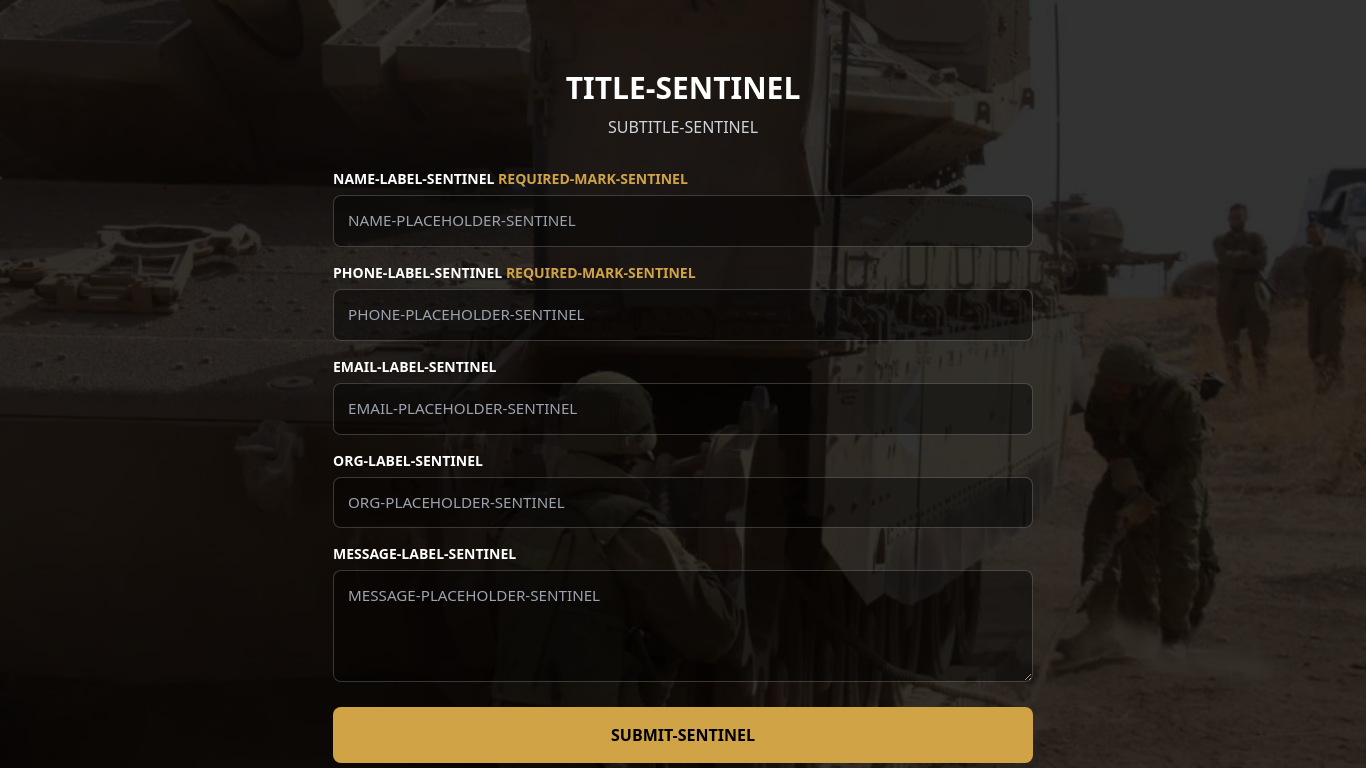
Test: 4. res.ok true: the success message is shown exactly once, and the request is well formed
Type "Dana Cohen" into the field labelled "NAME-LABEL-SENTINEL".
click(683, 221); type("Dana Cohen")  # box [333,195,1033,247]
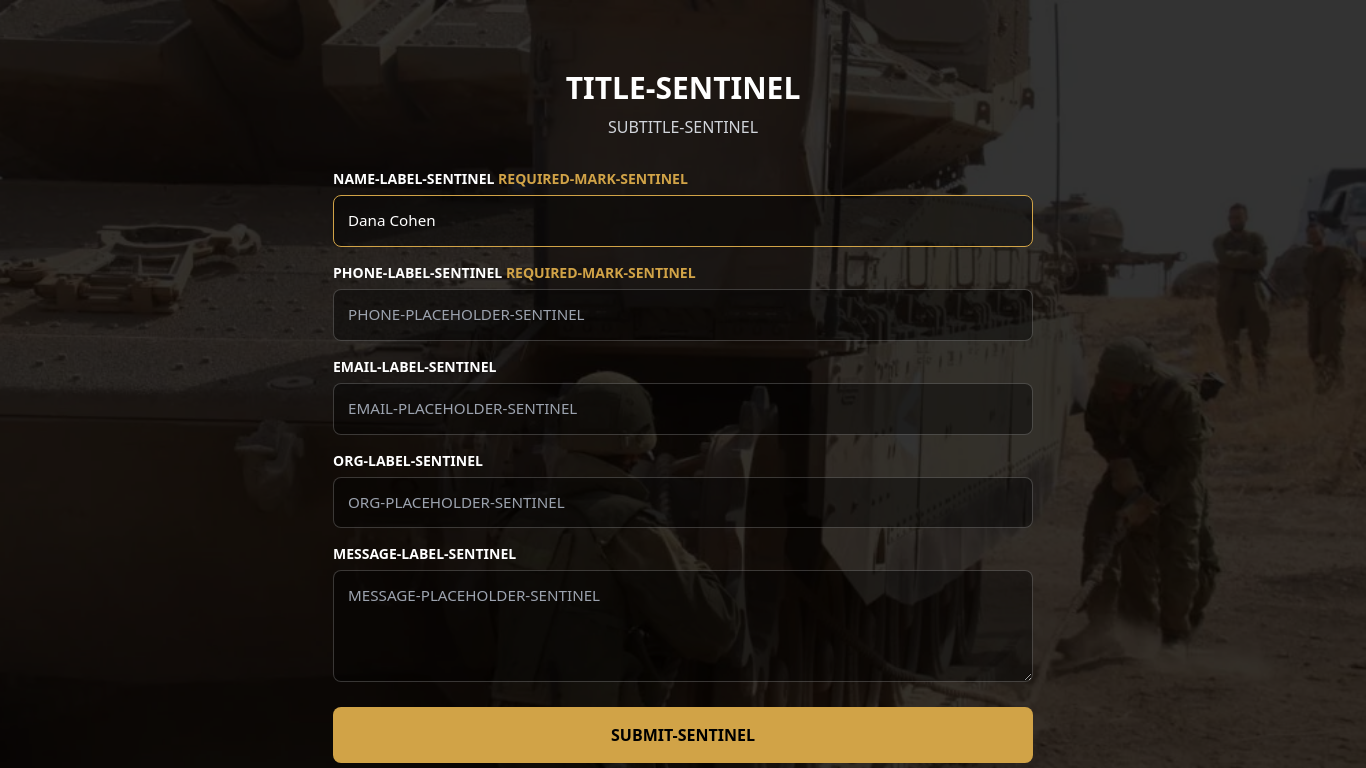
Type "050-000-0000" into the field labelled "PHONE-LABEL-SENTINEL".
click(683, 315); type("050-000-0000")  # box [333,289,1033,341]
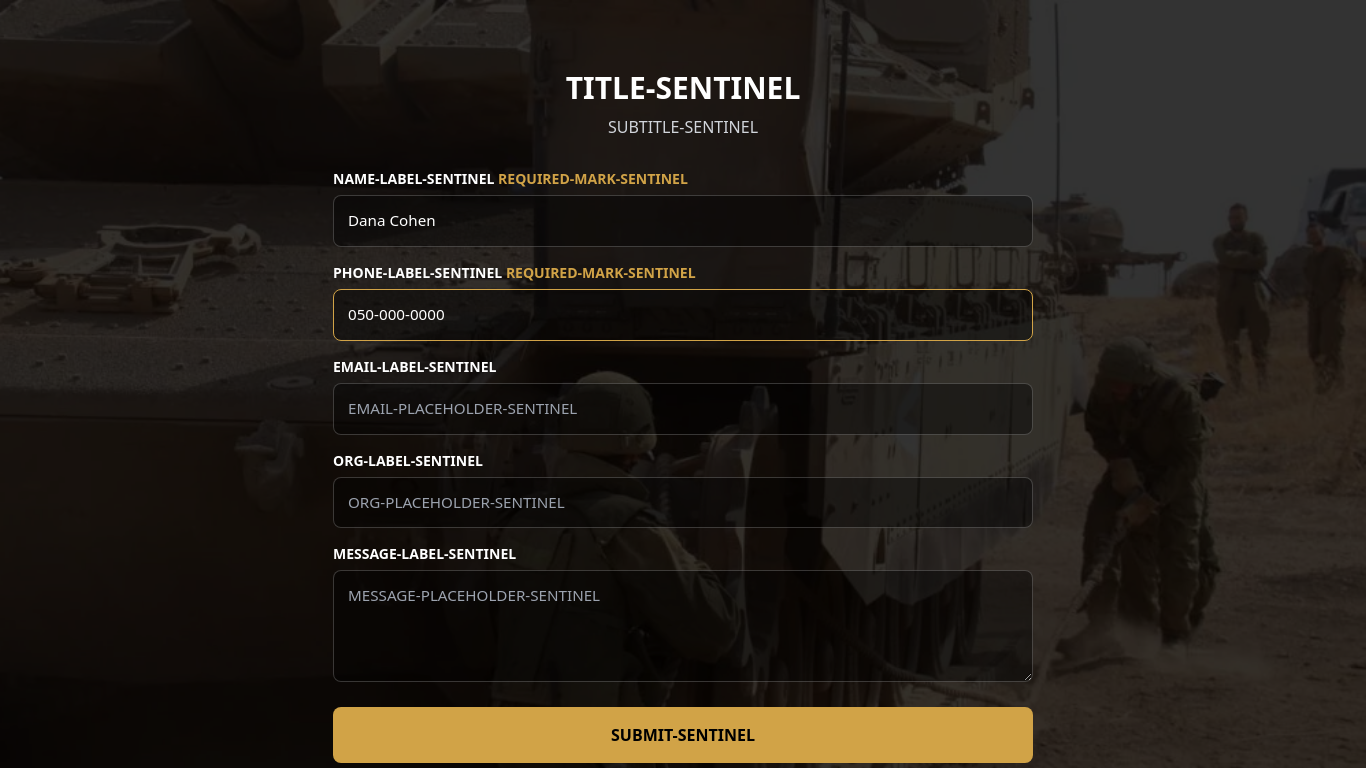
Type "dana@example.org" into the field labelled "EMAIL-LABEL-SENTINEL".
click(683, 409); type("dana@example.org")  # box [333,383,1033,435]
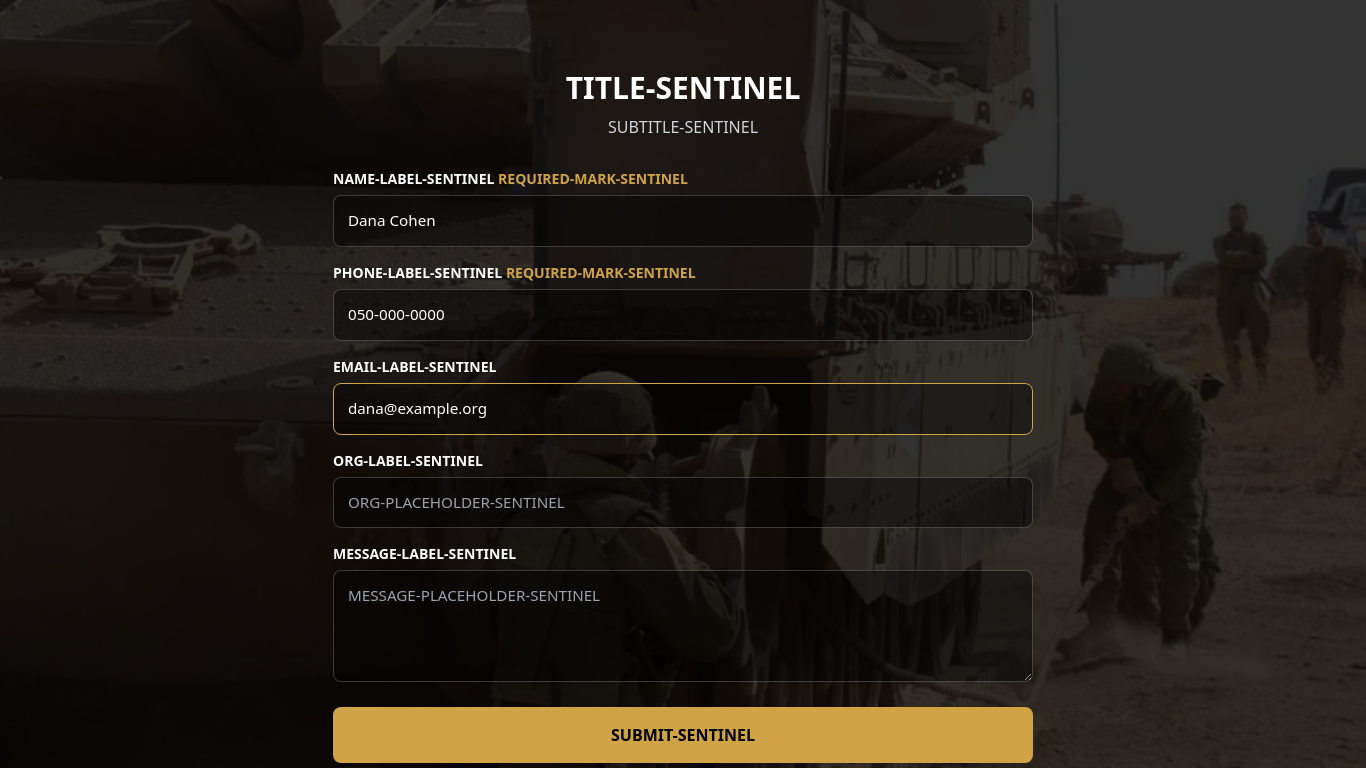
Type "Example School" into the field labelled "ORG-LABEL-SENTINEL".
click(683, 502); type("Example School")  # box [333,477,1033,528]
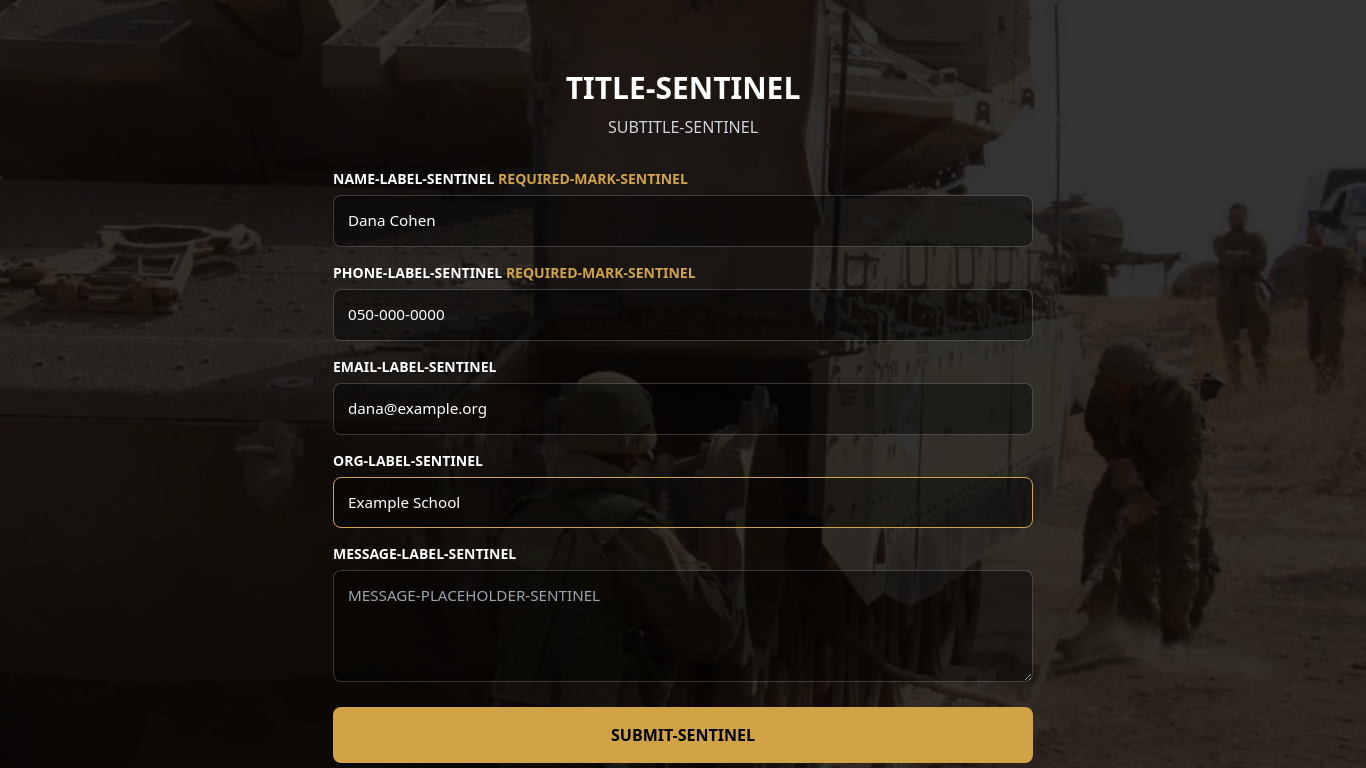
Type "Memorial day assembly" into the text box labelled "MESSAGE-LABEL-SENTINEL".
click(683, 626); type("Memorial day assembly")  # box [333,570,1033,682]
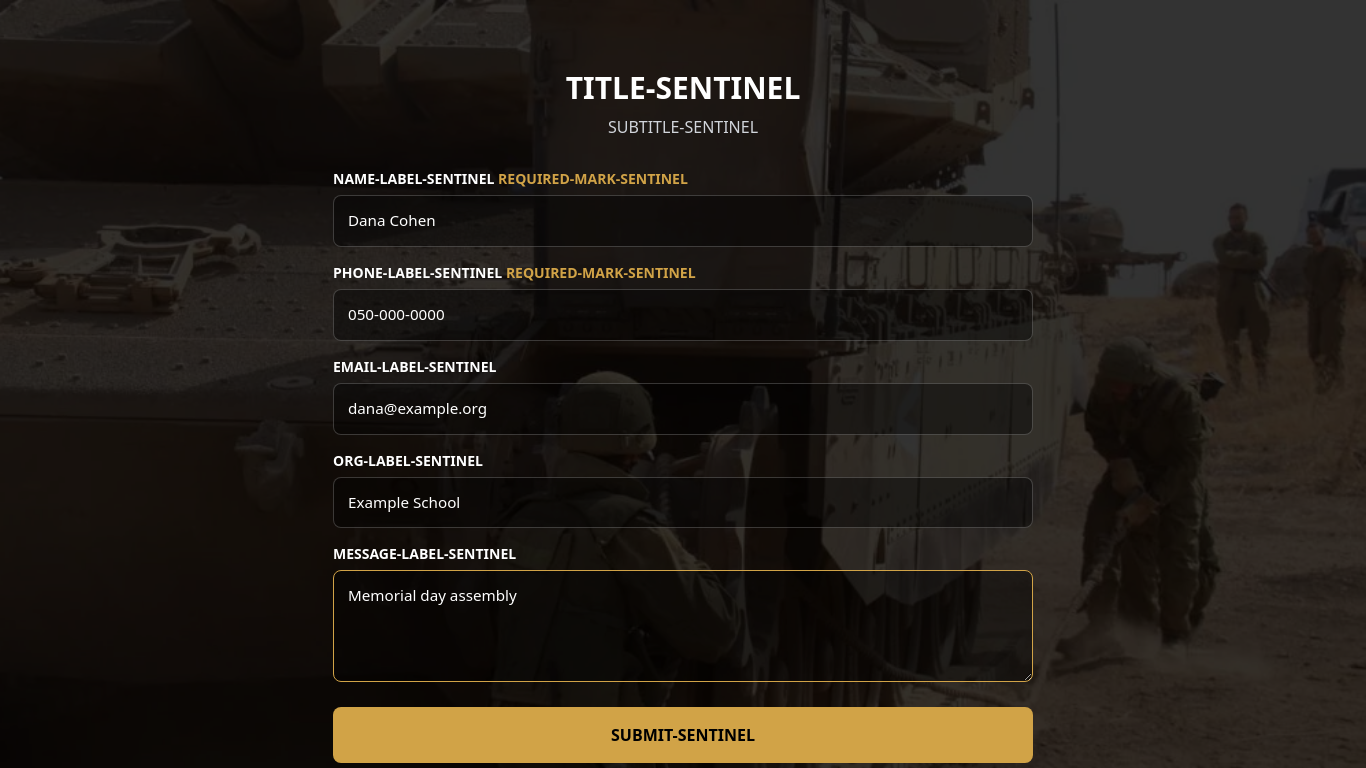
Click the button "SUBMIT-SENTINEL".
click(683, 735)  # box [333,707,1033,763]
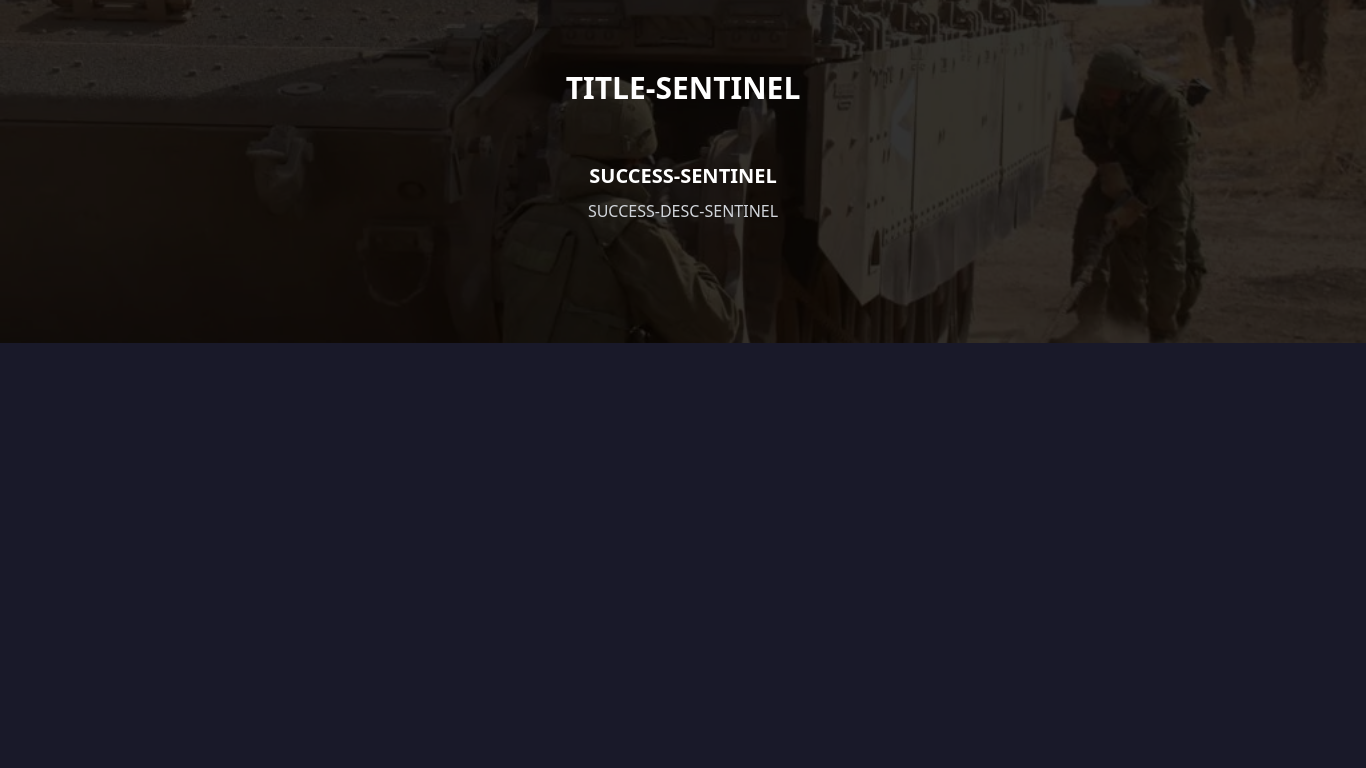
Expected: the number of elements with test id "form-success" is 1, [588,162,778,222]
Expected: the number of headings "SUCCESS-SENTINEL" is 1, [589,162,777,189]
Expected: the text "SUCCESS-DESC-SENTINEL" is shown, [588,200,778,222]
